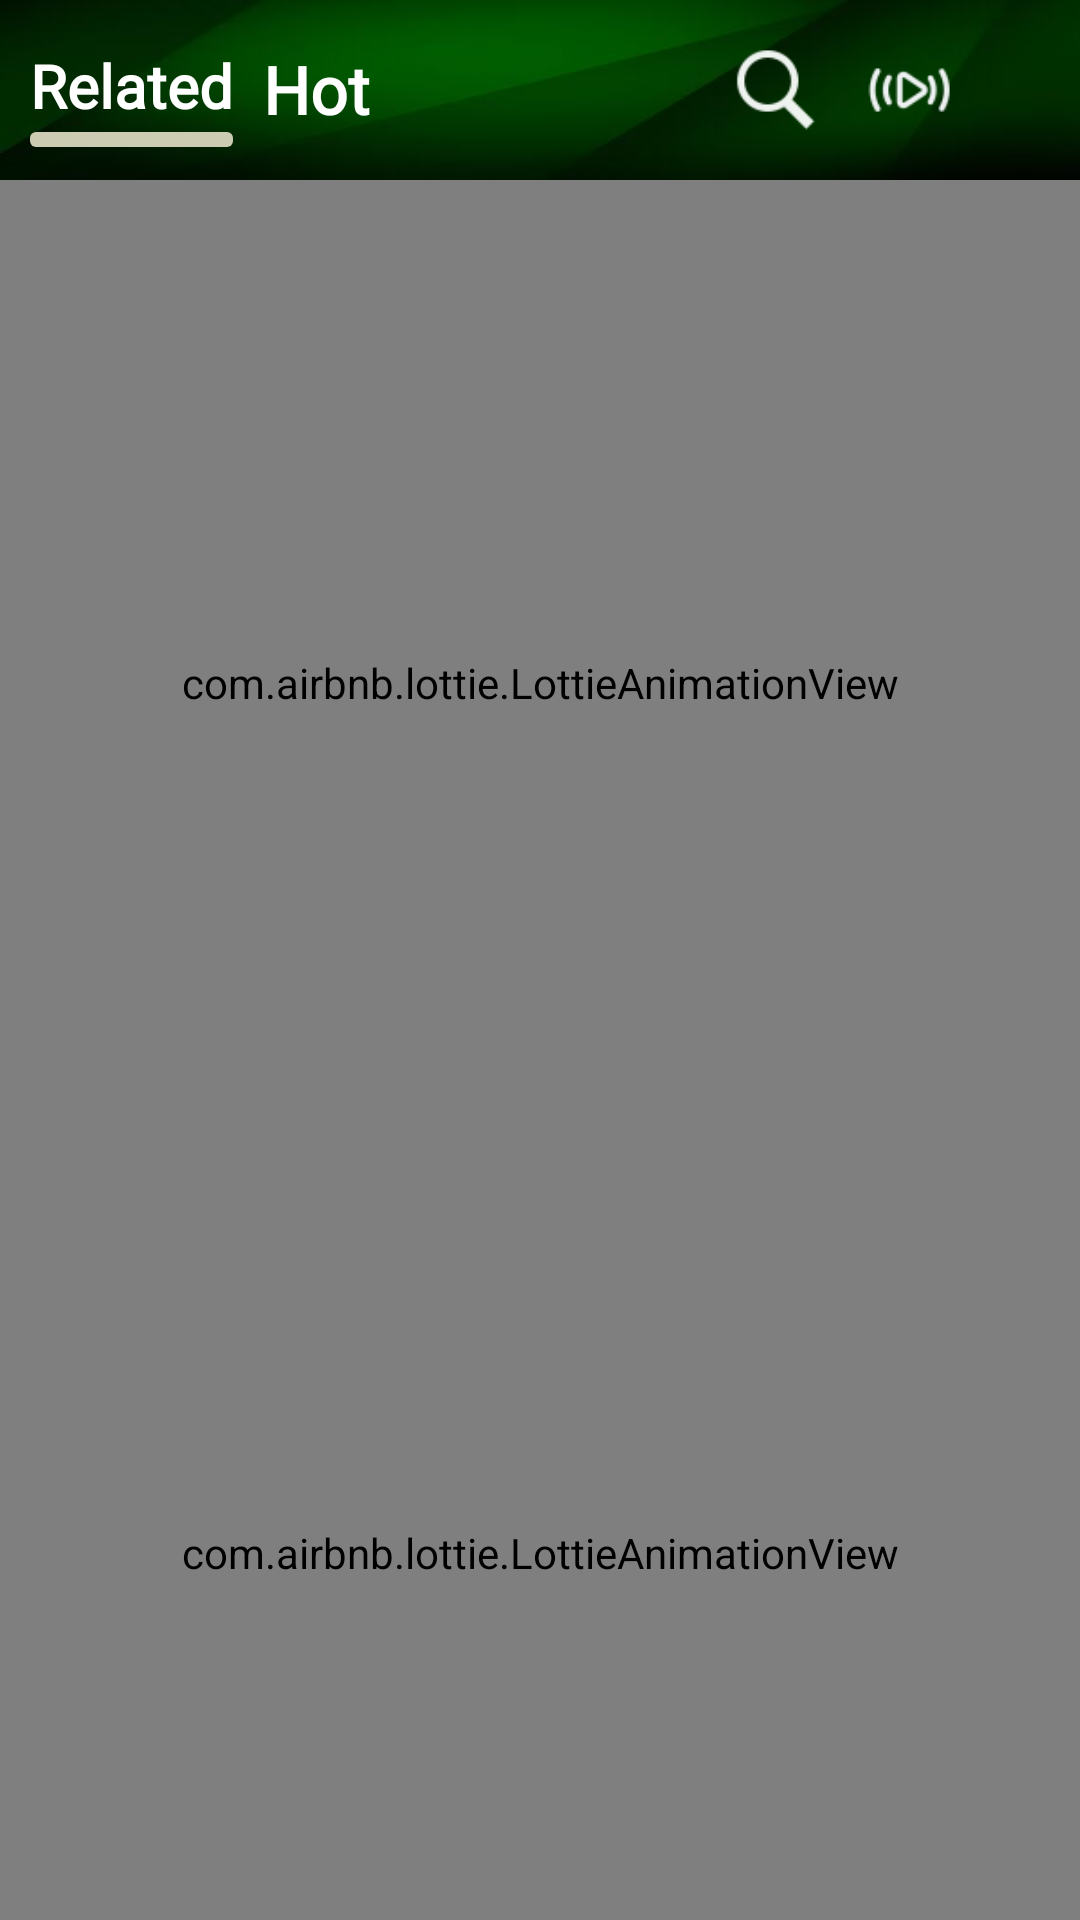

Icons on this 1080w x 1920h Android screen, each with the point to tap as [x,y]:
live: [909,90]
serch: [775,90]
